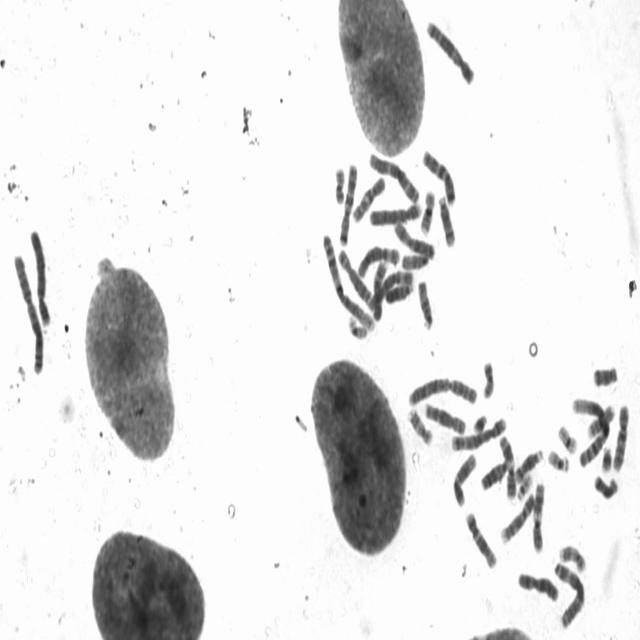A1: (319, 228, 376, 334), (569, 392, 612, 470)
A2: (10, 250, 45, 376), (405, 371, 479, 408)
A3: (366, 147, 421, 205), (552, 556, 586, 629)
B4: (28, 222, 51, 328), (368, 197, 423, 228)
B5: (424, 13, 476, 87), (449, 411, 508, 452)
C10: (350, 172, 387, 224), (611, 398, 631, 474)
C11: (497, 431, 517, 501), (530, 477, 546, 554)
C12: (462, 506, 498, 570), (451, 448, 478, 508)
C6: (370, 266, 414, 311), (356, 240, 401, 279)
C7: (420, 144, 457, 206), (337, 157, 359, 247)
C8: (335, 242, 377, 312), (422, 398, 468, 435)
C9: (499, 488, 537, 544), (374, 256, 390, 322)
D13: (478, 454, 512, 492), (385, 282, 415, 304)
D14: (512, 444, 544, 485), (436, 190, 457, 249)
D15: (415, 275, 435, 332), (400, 242, 434, 272)
E16: (585, 400, 617, 440), (418, 185, 436, 236)
E17: (406, 402, 434, 447), (556, 538, 588, 574)
E18: (592, 469, 620, 501), (591, 360, 620, 388)
F19: (556, 420, 579, 456), (345, 311, 369, 340)
F20: (480, 356, 496, 400), (332, 163, 346, 206)
G21: (599, 440, 614, 474), (471, 409, 488, 435)
G22: (545, 444, 571, 474), (514, 468, 534, 502)
X: (392, 216, 438, 260), (515, 566, 560, 604)
